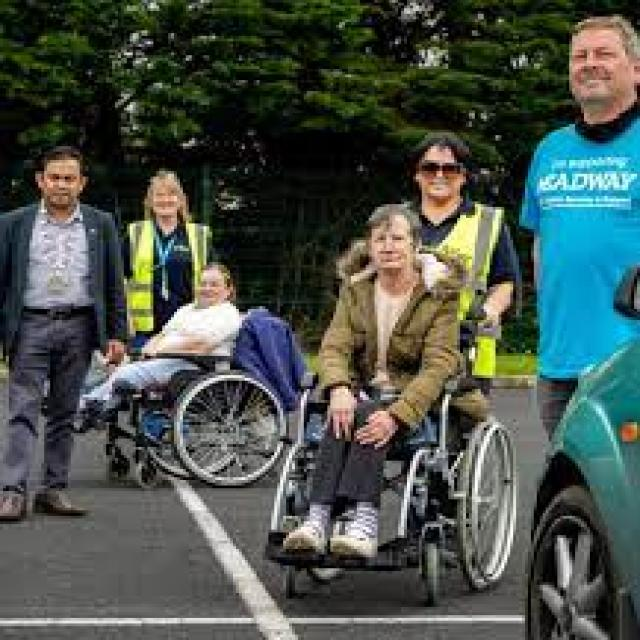wheelchairs: (261, 312, 526, 621), (86, 294, 289, 496)
